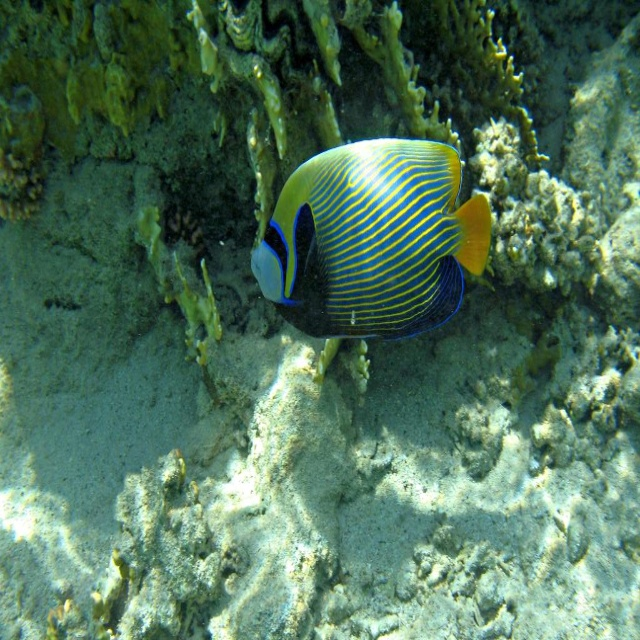Fish: (249, 138, 493, 345)
